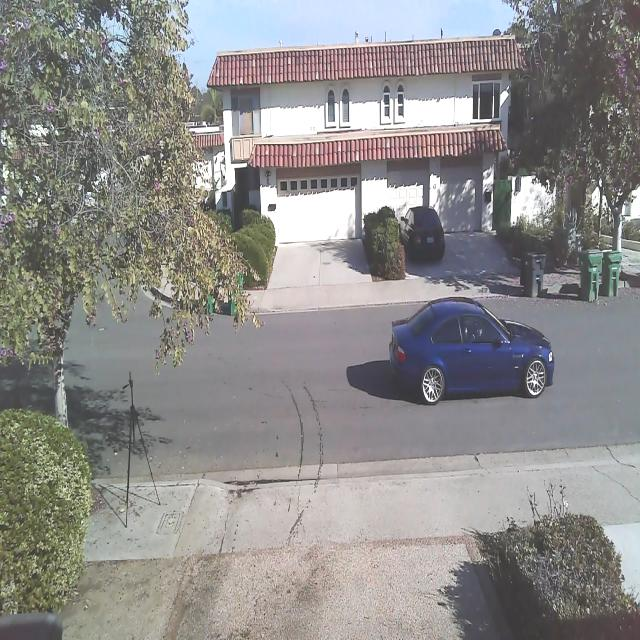Carbeetle: (384, 289, 558, 410)
Civilian: (397, 206, 445, 264)
